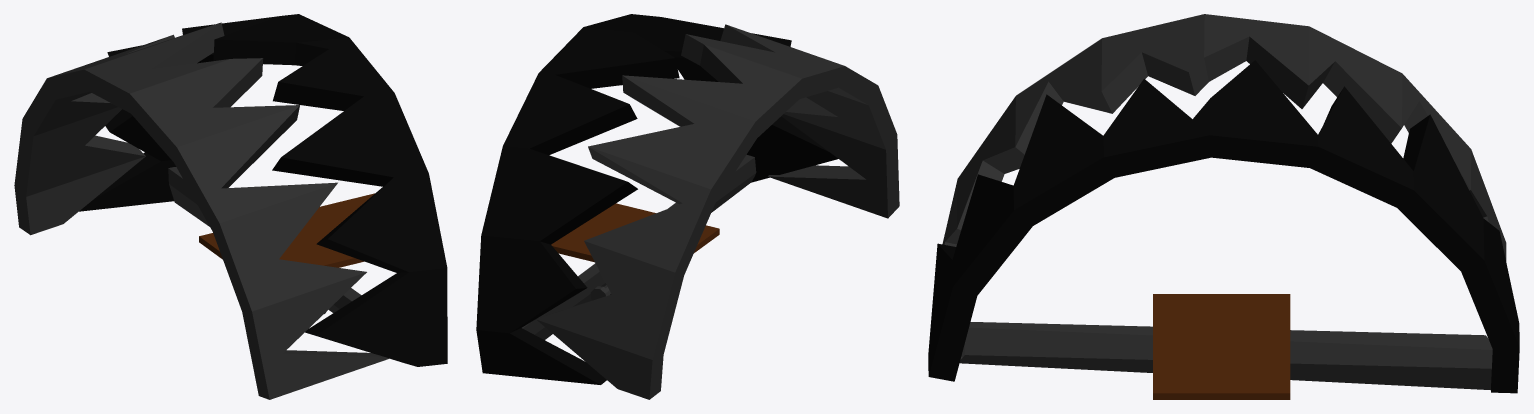
File: Trap1Mesh_closed.fbx
3 views of the same model, side by side, from view 1: azimuth 30°, elevation 25°; view 2: azimuth 150°, elevation 25°; view 3: azimuth 270°, elevation 25° (orthographic). The views are drawn at different scales.
Parts seen in each view (by area): view 1: BearTrap_Closed; view 2: BearTrap_Closed; view 3: BearTrap_Closed.
Boxes of the visible parts, x1=… form: BearTrap_Closed: x1=14, y1=14, x2=447, y2=399; BearTrap_Closed: x1=476, y1=14, x2=899, y2=399; BearTrap_Closed: x1=928, y1=14, x2=1519, y2=399.
Bounding box in the file's own units: 55.96 × 47.71 × 88.48.
